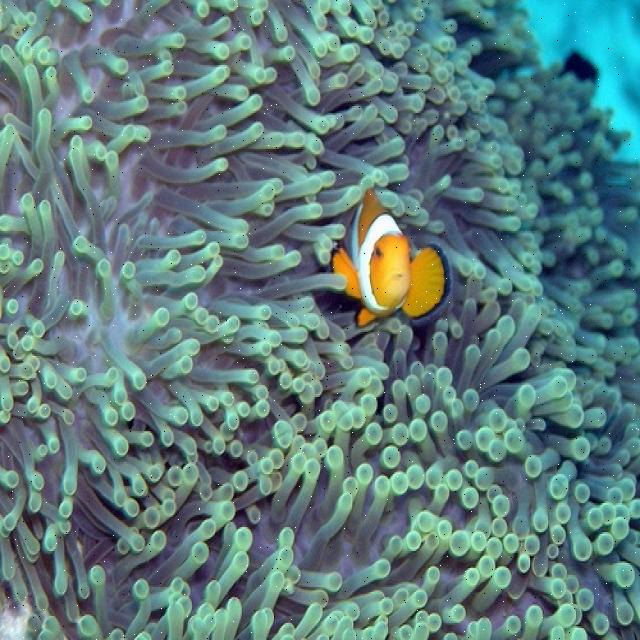fish: (334, 187, 451, 327)
reefs: (0, 0, 639, 638)
